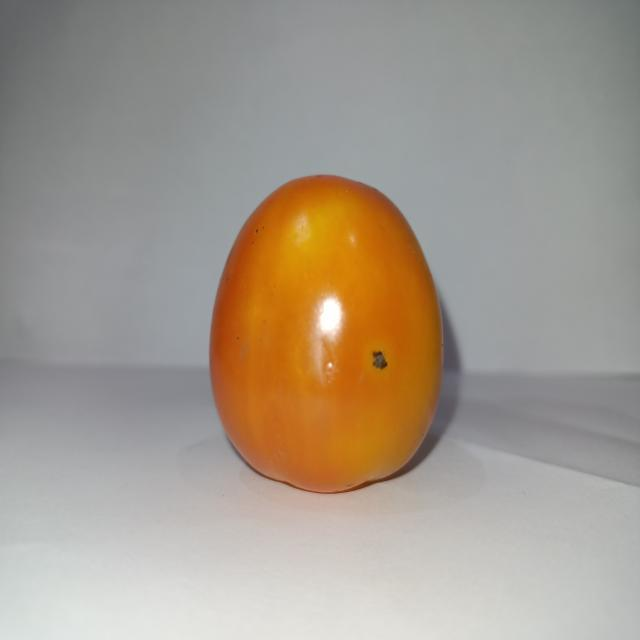Red: (207, 172, 445, 494)
